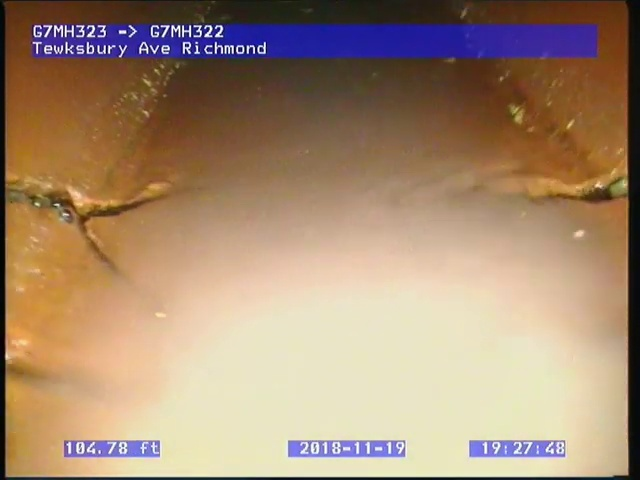crack: (5, 172, 179, 280), (534, 171, 626, 207)
